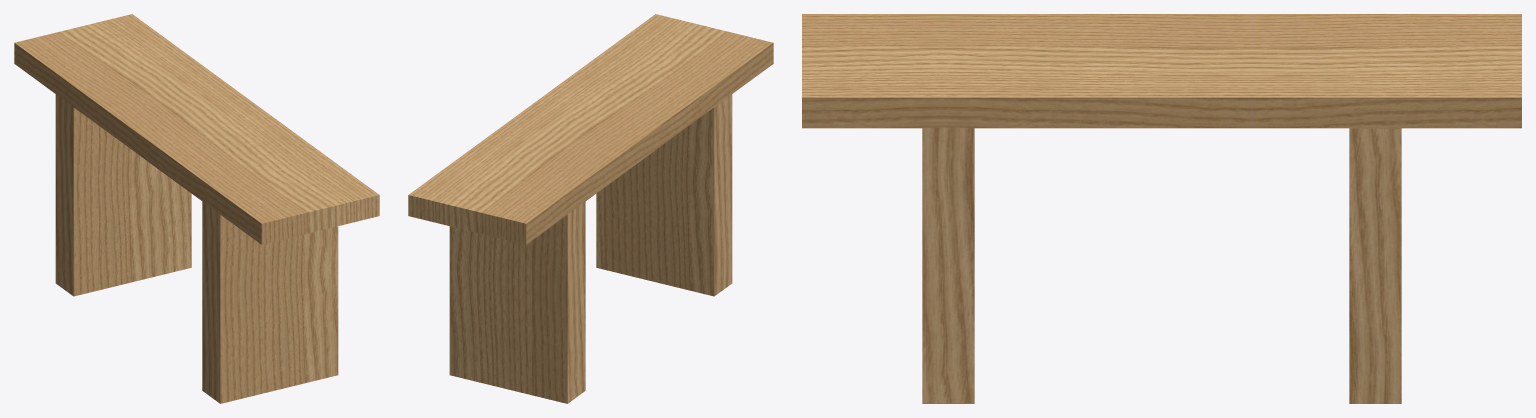
The model's file is bench.obj.
3 renders of one model, left to right at view 1: azimuth 30°, elevation 25°; view 2: azimuth 150°, elevation 25°; view 3: azimuth 270°, elevation 25°, orthographic. The views are drawn at different scales.
Visible parts, largest first — view 1: bench; view 2: bench; view 3: bench.
Part boxes in pixels (<box>): bench: <box>14,14,379,403</box>; bench: <box>408,14,773,403</box>; bench: <box>802,14,1521,403</box>.
Size of the model in its own units: 6 by 10.24 by 21.81.
Materials: 1 (1 with a texture image).
